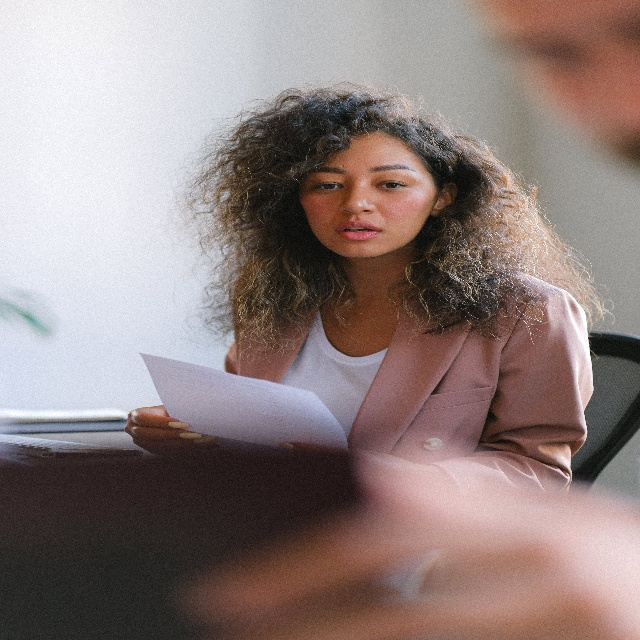Sin_guantes: (124, 401, 202, 449)
